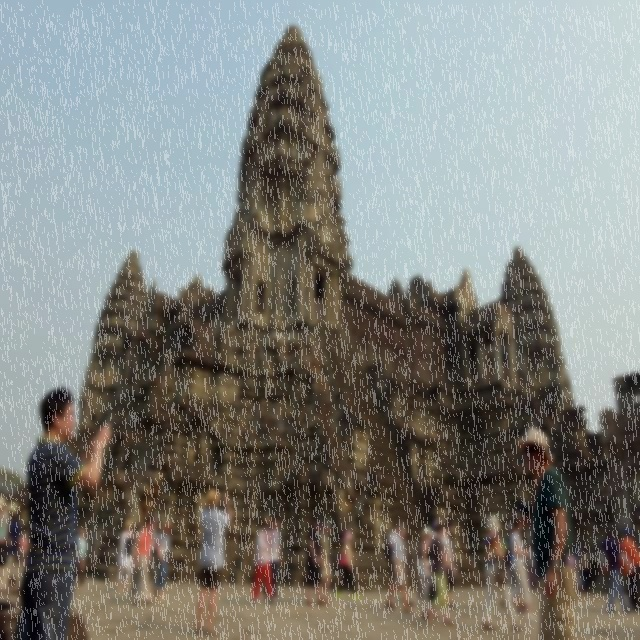pessoa: (0, 385, 114, 640), (513, 425, 578, 640), (193, 486, 234, 637), (480, 514, 526, 632), (424, 520, 458, 628), (600, 524, 636, 615), (128, 512, 164, 601), (509, 516, 538, 622), (384, 518, 416, 608), (384, 524, 414, 615), (252, 516, 279, 606), (499, 522, 526, 611), (130, 514, 156, 606), (261, 514, 286, 606), (148, 518, 172, 604), (305, 518, 328, 606), (334, 529, 362, 600), (419, 526, 440, 620), (0, 501, 21, 589), (619, 528, 640, 614), (508, 522, 528, 611), (0, 496, 16, 593), (116, 519, 136, 593), (442, 520, 458, 611), (316, 521, 332, 605), (570, 543, 584, 595), (578, 544, 590, 593), (78, 528, 88, 586), (528, 542, 538, 590), (16, 532, 28, 570), (572, 544, 582, 572), (428, 521, 439, 546), (318, 296, 322, 320), (418, 582, 423, 600), (358, 342, 363, 358), (576, 540, 582, 552), (420, 530, 424, 542)
